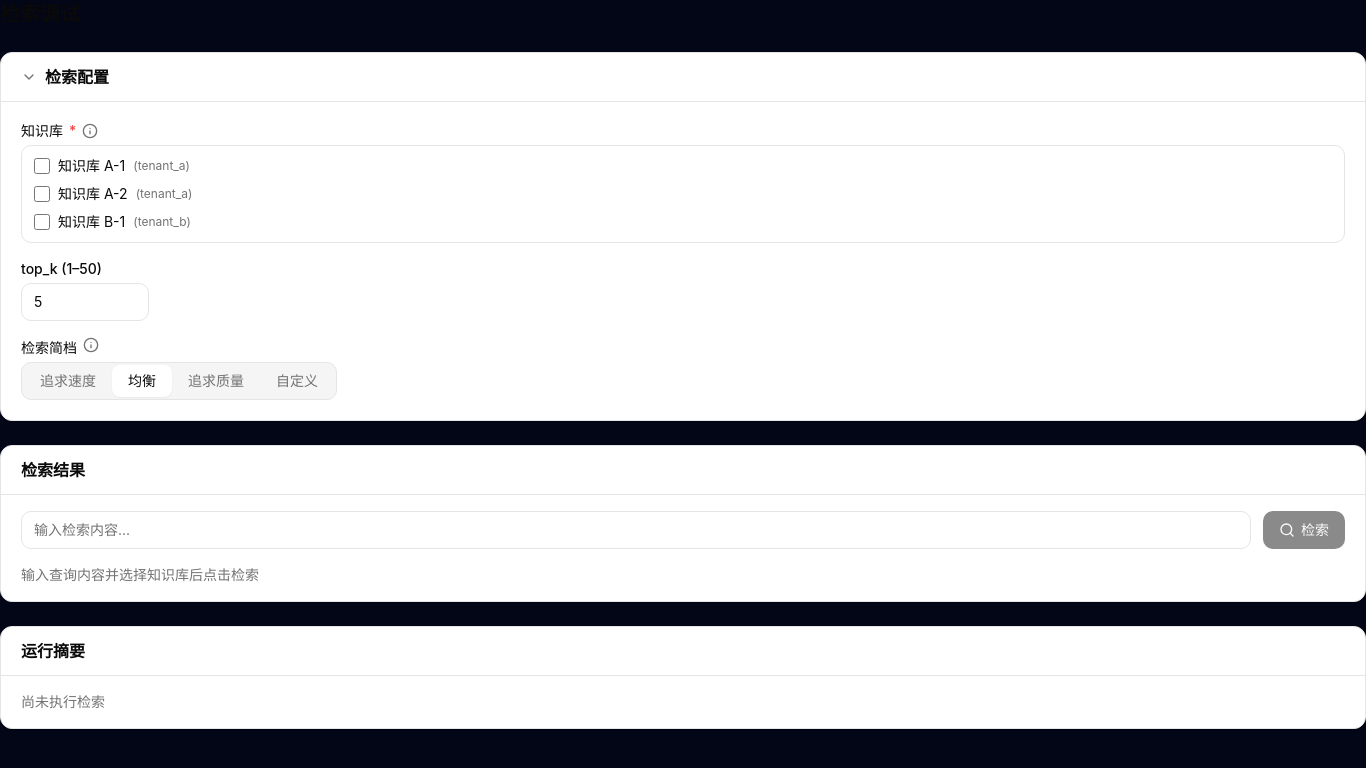
Scenario: RetrievePage › 检索成功后应显示 hit 列表
Click the checkbox labelled "知识库 A-1".
click(42, 166)  # box [34,158,50,174]
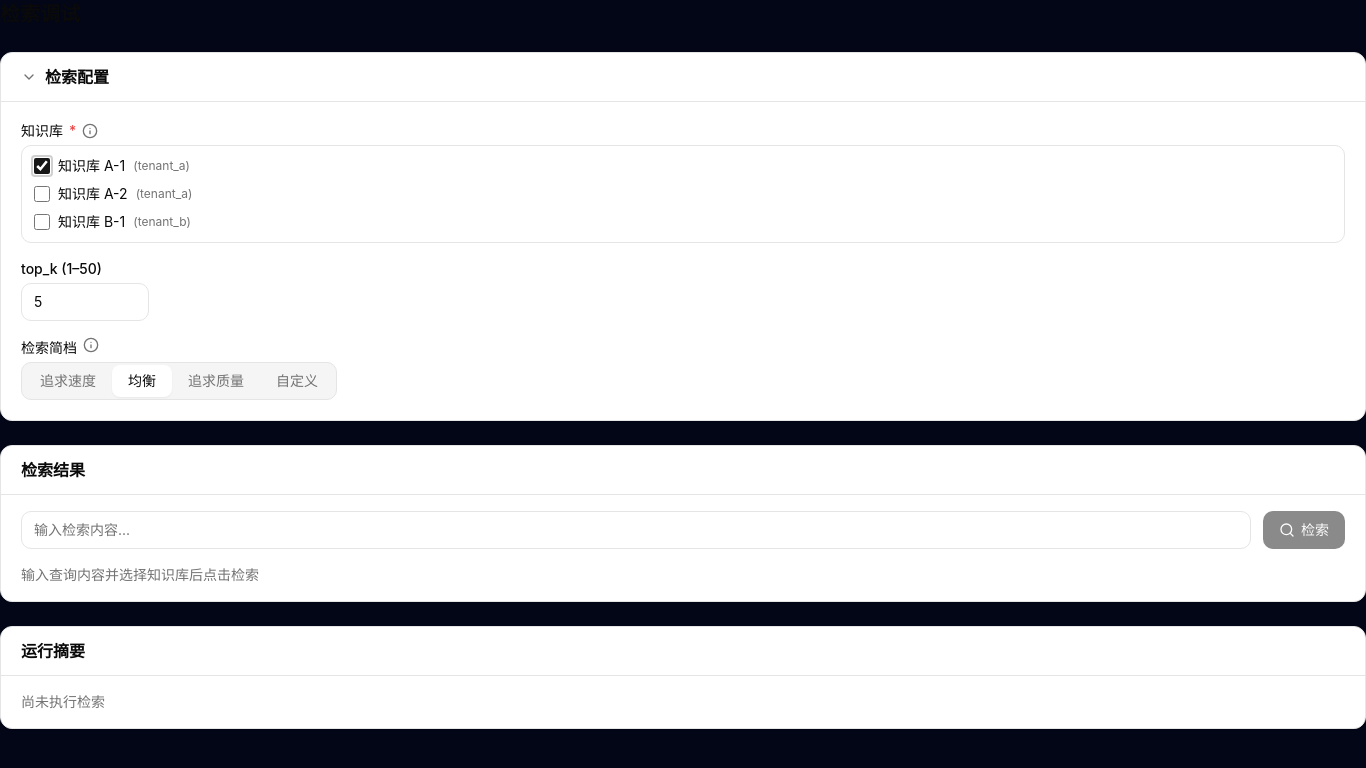
Type "test query" into the field with placeholder "输入检索内容...".
click(636, 530); type("test query")  # box [21,511,1251,549]
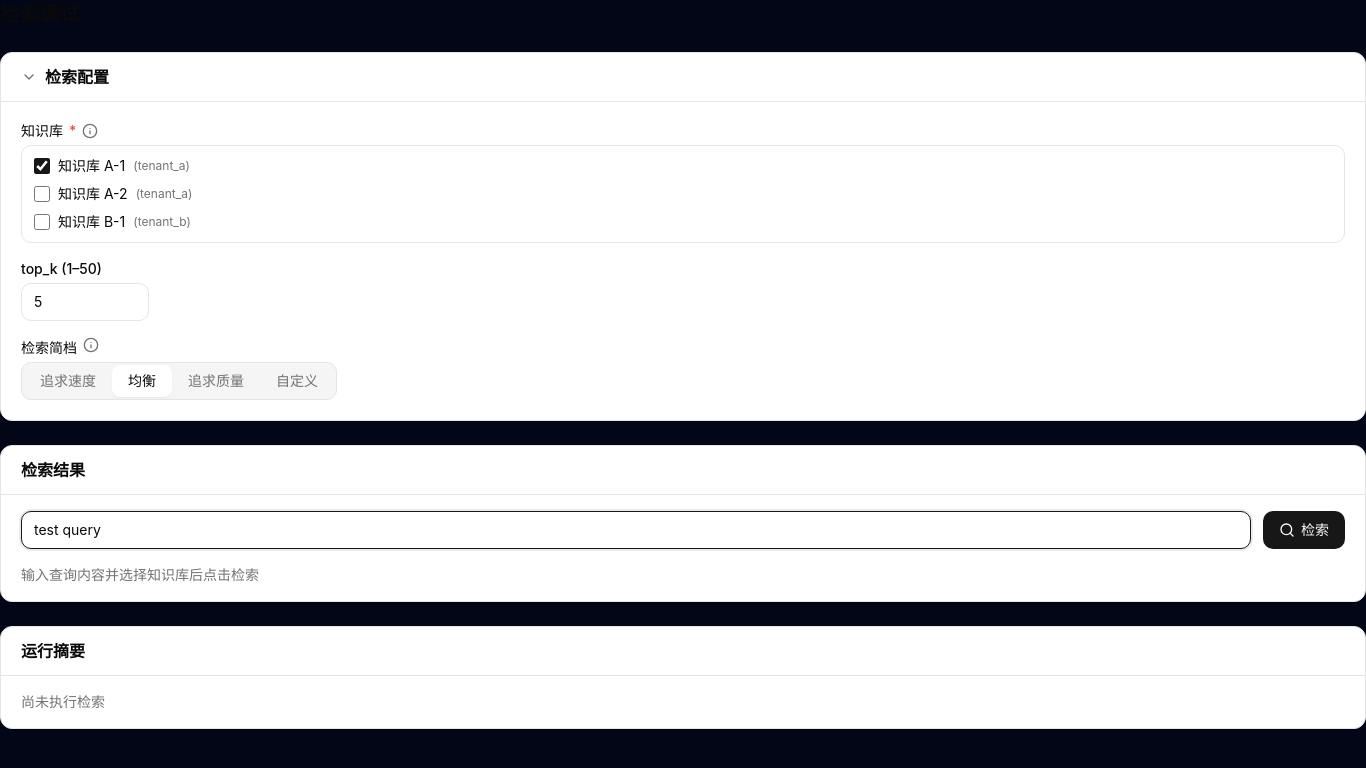
Click the button "检索".
click(1304, 530)  # box [1263,511,1345,549]
(page scrolled)
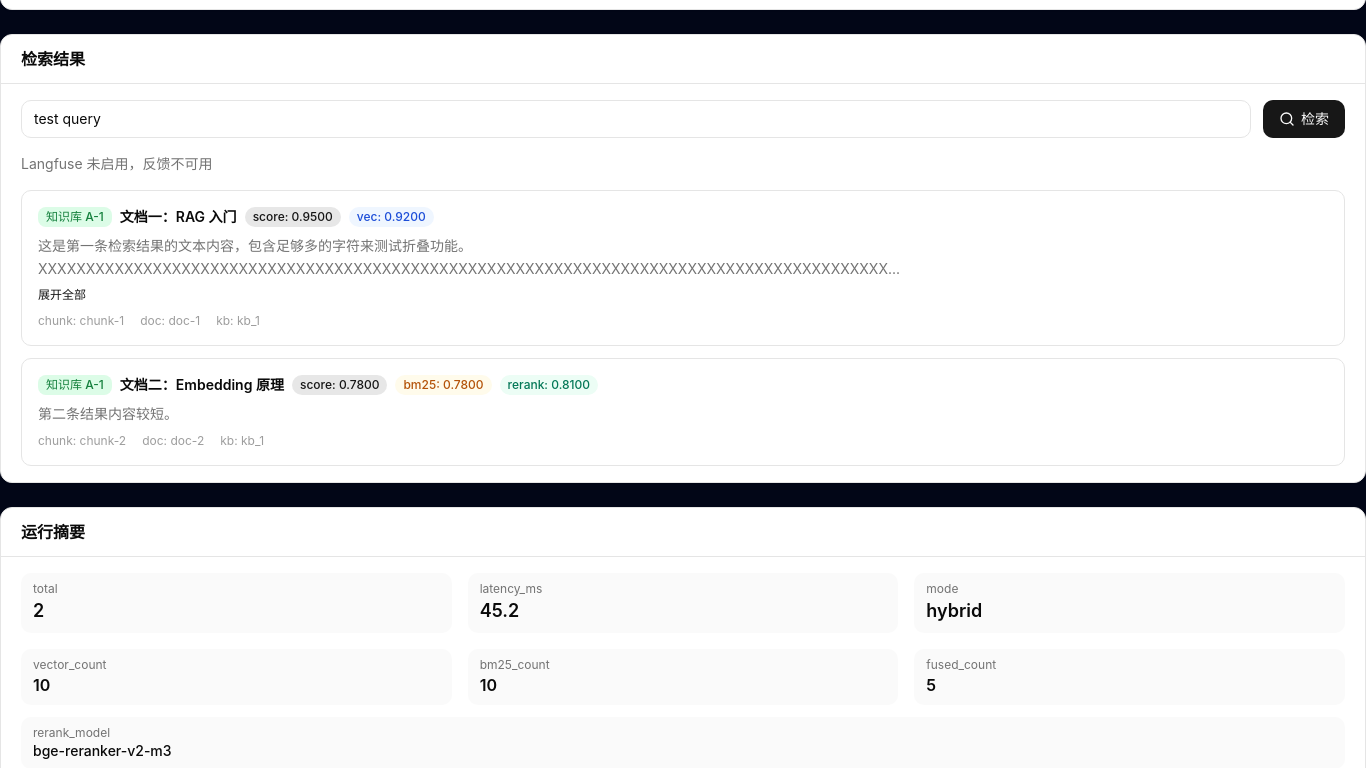
Check: the text "文档一：RAG 入门" is shown, box [120,207,237,227]
Check: the text "文档二：Embedding 原理" is shown, box [120,374,284,394]
